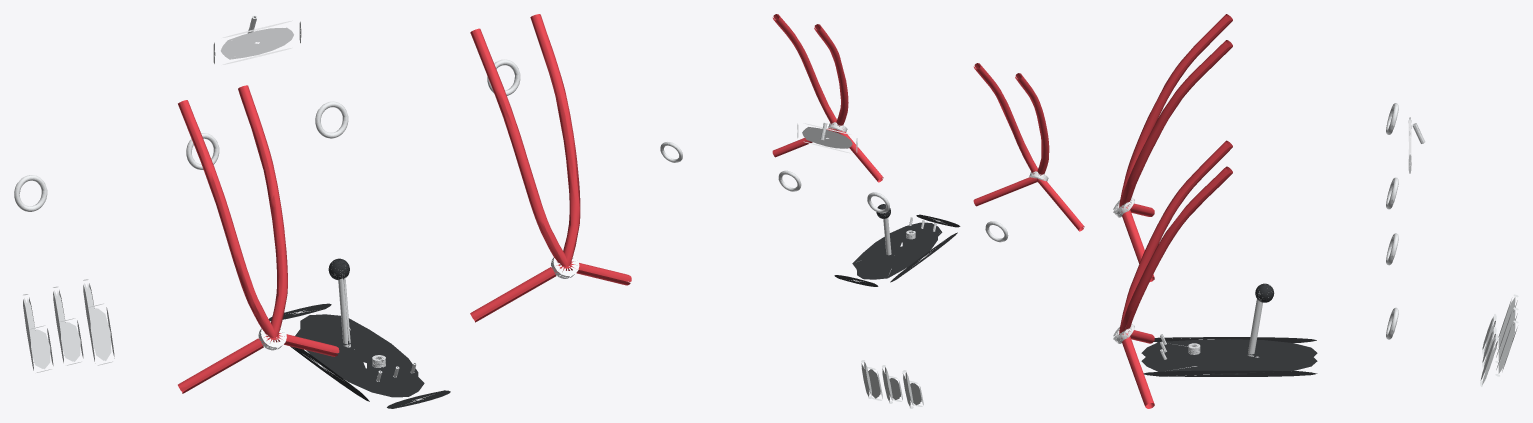
Rendered from cockpit_interior.glb.
The picture shows the model from 3 angles, left to right: view 1: azimuth 30°, elevation 25°; view 2: azimuth 150°, elevation 25°; view 3: azimuth 270°, elevation 25°; orthographic projection. The views are drawn at different scales.
Parts seen in each view (by area): view 1: SixPoint_Harness_Passenger, Center_Tunnel_Switch_Console, Drilled_Aluminum_Pedal_Box, SixPoint_Harness_Driver; view 2: SixPoint_Harness_Passenger, Center_Tunnel_Switch_Console, Drilled_Aluminum_Pedal_Box, SixPoint_Harness_Driver; view 3: SixPoint_Harness_Passenger, Center_Tunnel_Switch_Console, Drilled_Aluminum_Pedal_Box, SixPoint_Harness_Driver.
Part boxes in pixels (bbox=[...]): SixPoint_Harness_Passenger: bbox=[178, 14, 631, 393]; Center_Tunnel_Switch_Console: bbox=[269, 258, 450, 408]; Drilled_Aluminum_Pedal_Box: bbox=[14, 15, 520, 381]; SixPoint_Harness_Driver: bbox=[213, 20, 579, 350]; SixPoint_Harness_Passenger: bbox=[772, 14, 1084, 231]; Center_Tunnel_Switch_Console: bbox=[834, 204, 960, 286]; Drilled_Aluminum_Pedal_Box: bbox=[660, 122, 1008, 408]; SixPoint_Harness_Driver: bbox=[797, 122, 1048, 182]; SixPoint_Harness_Passenger: bbox=[1119, 14, 1232, 408]; Center_Tunnel_Switch_Console: bbox=[1141, 283, 1317, 376]; Drilled_Aluminum_Pedal_Box: bbox=[1160, 103, 1518, 386]; SixPoint_Harness_Driver: bbox=[1113, 117, 1411, 343].
Bounding box in the file's own units: 1.18 × 0.8553 × 0.9208.
